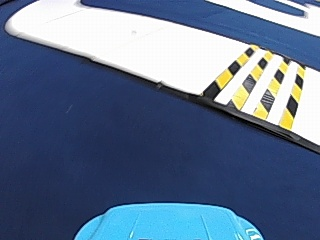bump: (201, 46, 303, 122)
